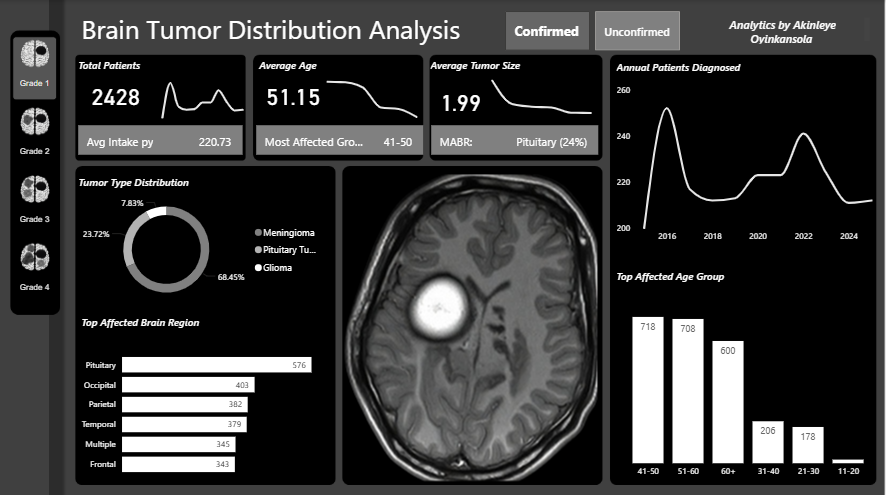

This screenshot's page, from the dashboard's own definition file:
{"tool":"powerbi","page":{"name":"Page 1","canvas":[1280,720],"ordinal":0},"visuals":[{"type":"card","fields":{"Values":["Count(Brain Tumor Data b.Patient ID)"]},"box":[109.9,98.3,117.1,78.1],"z":0},{"type":"lineChart","fields":{"Category":["Brain Tumor Data b.Date of Diagnosis.Variation.Date Hierarchy.Year"],"Y":["CountNonNull(Brain Tumor Data b.Patient ID)"]},"box":[221.2,98.3,146,78.1],"z":1000},{"type":"textbox","box":[105.5,78.1,115.7,39],"z":2000},{"type":"textbox","box":[367.2,78.1,115.7,39],"z":3000},{"type":"card","fields":{"Values":["Avg(Brain Tumor Data.Age)"]},"box":[367.2,98.3,115.7,78.1],"z":4000},{"type":"lineChart","fields":{"Y":["CountNonNull(Brain Tumor Data b.Patient ID)"],"Category":["Brain Tumor Data.Age Group"]},"box":[459.8,98.3,159,78.1],"z":5000},{"type":"textbox","box":[618.8,78.1,153.3,39],"z":6000},{"type":"card","fields":{"Values":["Avg(Brain Tumor Data.Tumor Size (cm))"]},"box":[620.2,117.1,94,59.3],"z":7000},{"type":"lineChart","fields":{"Category":["Brain Tumor Data.Affected Brain Region"],"Y":["Sum(Brain Tumor Data.Tumor Size (cm))"]},"box":[696.9,98.3,174.9,78.1],"z":8000},{"type":"cardVisual","fields":{"Data":["CountNonNull(Brain Tumor Data.Patient ID)"]},"box":[109.9,176.4,247.2,52],"z":9000},{"type":"cardVisual","fields":{"Data":["CountNonNull(Brain Tumor Data.Patient ID)"]},"box":[367.2,176.4,251.6,52],"z":10000},{"type":"cardVisual","fields":{"Data":["CountNonNull(Brain Tumor Data.Patient ID)"]},"box":[620.2,176.4,251.6,52],"z":11000},{"type":"advancedSlicerVisual","fields":{"Values":["Brain Tumor Data.Histology Confirmation"]},"box":[727.2,11.6,263.1,66.5],"z":12000},{"type":"ChicletSlicer1448559807354","fields":{"Category":["Tumor Images b.Tumor Grade"],"Image":["Tumor Images b.Icon URL"]},"box":[11.6,44.8,94,404.8],"z":12001},{"type":"imageDB603108E3FF4EBFB8047F5653368E8C","fields":{"imageUrl":["Tumor Images b.Image URL"]},"box":[493,247.2,378.8,452.5],"z":12003},{"type":"donutChart","fields":{"Category":["Brain Tumor Data.Tumor Type"],"Y":["CountNonNull(Brain Tumor Data.Patient ID)"]},"box":[109.9,271.8,373,177.8],"z":12004},{"type":"textbox","box":[109.9,247.2,205.3,36.1],"z":12005},{"type":"clusteredBarChart","fields":{"Category":["Brain Tumor Data.Affected Brain Region"],"Y":["CountNonNull(Brain Tumor Data.Patient ID)"]},"box":[109.9,491.6,373,208.2],"z":12006},{"type":"textbox","box":[114.2,449.6,195.2,41.9],"z":12007},{"type":"lineChart","fields":{"Category":["Brain Tumor Data.Date of Diagnosis.Variation.Date Hierarchy.Year"],"Y":["CountNonNull(Brain Tumor Data.Patient ID)"]},"box":[887.7,115.7,391.8,244.3],"z":12008},{"type":"textbox","box":[887.7,81,205.3,36.1],"z":12009},{"type":"clusteredColumnChart","fields":{"Category":["Brain Tumor Data.Age Group"],"Y":["CountNonNull(Brain Tumor Data.Patient ID)"]},"box":[887.7,419.3,391.8,280.5],"z":12010},{"type":"textbox","box":[887.7,383.1,205.3,36.1],"z":12011},{"type":"textbox","box":[114.2,11.6,626,66.5],"z":12012},{"type":"textbox","box":[1012,20.2,251.6,47.7],"z":12013}]}

Visuals, with their boxes in screenshot pixels (x1, y1, x2, y2), scaled from the page's 1280x720 canvas onto the 886x495 screenshot:
card - Count(Brain Tumor Data b.Patient ID): box=[76, 68, 157, 121]
lineChart - Brain Tumor Data b.Date of Diagnosis.Variation.Date Hierarchy.Year x CountNonNull(Brain Tumor Data b.Patient ID): box=[153, 68, 254, 121]
textbox: box=[73, 54, 153, 81]
textbox: box=[254, 54, 334, 81]
card - Avg(Brain Tumor Data.Age): box=[254, 68, 334, 121]
lineChart - CountNonNull(Brain Tumor Data b.Patient ID) x Brain Tumor Data.Age Group: box=[318, 68, 428, 121]
textbox: box=[428, 54, 534, 81]
card - Avg(Brain Tumor Data.Tumor Size (cm)): box=[429, 81, 494, 121]
lineChart - Brain Tumor Data.Affected Brain Region x Sum(Brain Tumor Data.Tumor Size (cm)): box=[482, 68, 603, 121]
cardVisual - CountNonNull(Brain Tumor Data.Patient ID): box=[76, 121, 247, 157]
cardVisual - CountNonNull(Brain Tumor Data.Patient ID): box=[254, 121, 428, 157]
cardVisual - CountNonNull(Brain Tumor Data.Patient ID): box=[429, 121, 603, 157]
advancedSlicerVisual - Brain Tumor Data.Histology Confirmation: box=[503, 8, 685, 54]
ChicletSlicer1448559807354 - Tumor Images b.Tumor Grade x Tumor Images b.Icon URL: box=[8, 31, 73, 309]
imageDB603108E3FF4EBFB8047F5653368E8C - Tumor Images b.Image URL: box=[341, 170, 603, 481]
donutChart - Brain Tumor Data.Tumor Type x CountNonNull(Brain Tumor Data.Patient ID): box=[76, 187, 334, 309]
textbox: box=[76, 170, 218, 195]
clusteredBarChart - Brain Tumor Data.Affected Brain Region x CountNonNull(Brain Tumor Data.Patient ID): box=[76, 338, 334, 481]
textbox: box=[79, 309, 214, 338]
lineChart - Brain Tumor Data.Date of Diagnosis.Variation.Date Hierarchy.Year x CountNonNull(Brain Tumor Data.Patient ID): box=[614, 80, 885, 248]
textbox: box=[614, 56, 757, 81]
clusteredColumnChart - Brain Tumor Data.Age Group x CountNonNull(Brain Tumor Data.Patient ID): box=[614, 288, 885, 481]
textbox: box=[614, 263, 757, 288]
textbox: box=[79, 8, 512, 54]
textbox: box=[700, 14, 875, 47]
